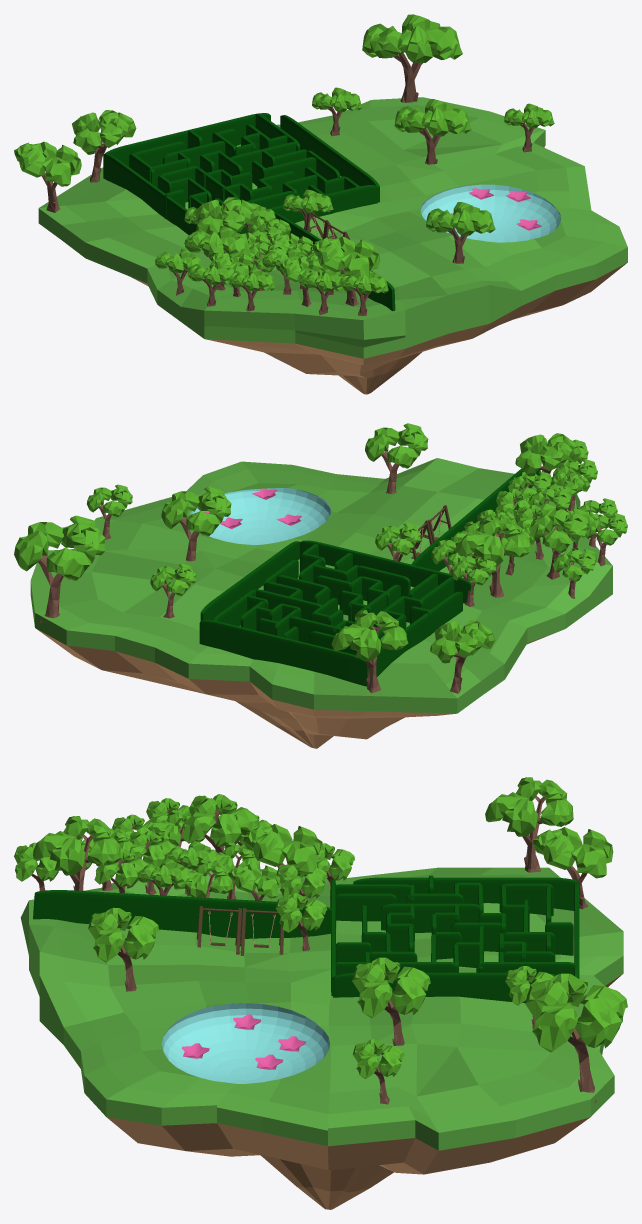
Rendered from green_maze_island.fbx.
The picture shows the model from 3 angles, top to bottom: view 1: azimuth 30°, elevation 25°; view 2: azimuth 150°, elevation 25°; view 3: azimuth 270°, elevation 25°; orthographic projection. The views are drawn at different scales.
Parts seen in each view (by area): view 1: Cube, tree6.024, tree6.026, tree6.021, tree6.025, tree6.005, Roundcube.001, tree6.022, Roundcube, Roundcube.003, tree6.008, tree6.014 (+21 smaller); view 2: Cube, Roundcube, tree6.024, tree6.025, tree6.021, tree6.008, tree6.022, Roundcube.002, tree6.026, tree6.014, tree6.005, Roundcube.003 (+24 smaller); view 3: Cube, Roundcube.051, tree6.024, tree6.026, tree6.021, tree6.005, tree6.022, tree6.025, Roundcube.003, tree6.014, Roundcube.001, tree6.008 (+28 smaller).
Boxes of the visible parts, box(x1,y1,x2,y2) form: Cube: box(38, 97, 627, 394); tree6.024: box(362, 14, 462, 102); tree6.026: box(14, 141, 81, 212); tree6.021: box(394, 99, 471, 164); tree6.025: box(72, 110, 136, 182); tree6.005: box(312, 236, 380, 306); Roundcube.001: box(103, 153, 197, 234); tree6.022: box(426, 202, 495, 263); Roundcube: box(105, 113, 270, 166); Roundcube.003: box(280, 115, 379, 202); tree6.008: box(194, 197, 258, 235); tree6.014: box(184, 226, 250, 290); Cube: box(30, 458, 612, 748); Roundcube: box(199, 620, 365, 686); tree6.024: box(14, 515, 105, 622); tree6.025: box(331, 610, 408, 693); tree6.021: box(161, 486, 231, 561); tree6.008: box(455, 517, 531, 597); tree6.022: box(365, 423, 428, 493); Roundcube.002: box(300, 540, 471, 603); tree6.026: box(430, 620, 495, 693); tree6.014: box(529, 508, 589, 579); tree6.005: box(515, 433, 580, 503); Roundcube.003: box(200, 541, 299, 621); Cube: box(20, 867, 623, 1209); Roundcube.051: box(33, 890, 331, 938); tree6.024: box(525, 973, 627, 1102); tree6.026: box(485, 777, 573, 872); tree6.021: box(352, 957, 430, 1045); tree6.005: box(33, 816, 120, 890); tree6.022: box(88, 907, 159, 991); tree6.025: box(532, 827, 613, 909); Roundcube.003: box(333, 972, 556, 1003); tree6.014: box(182, 794, 259, 879); Roundcube.001: box(353, 877, 577, 910); tree6.008: box(242, 824, 323, 873).
Size of the model in its own units: 33663 by 17390 by 31116.
